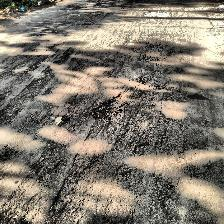pothole: (88, 90, 130, 124)
